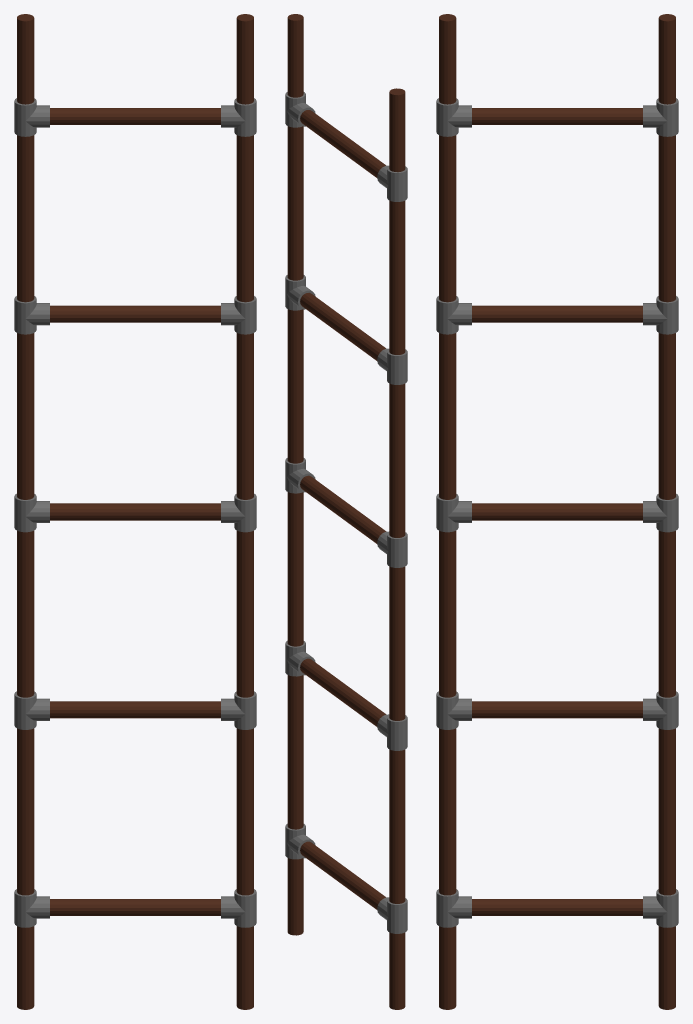
File: Ladder.fbx
3 views of the same model, side by side, from view 1: azimuth 90°, elevation 25°; view 2: azimuth 210°, elevation 25°; view 3: azimuth 270°, elevation 25° (orthographic). The views are drawn at different scales.
Visible parts, largest first — view 1: Cylinder.024; view 2: Cylinder.024; view 3: Cylinder.024.
Boxes of the visible parts, x1,y1,x2,y2 form: Cylinder.024: (14, 14, 256, 1009); Cylinder.024: (285, 14, 407, 1009); Cylinder.024: (436, 14, 678, 1009).
Size of the model in its own units: 10.96 by 535 by 119.
